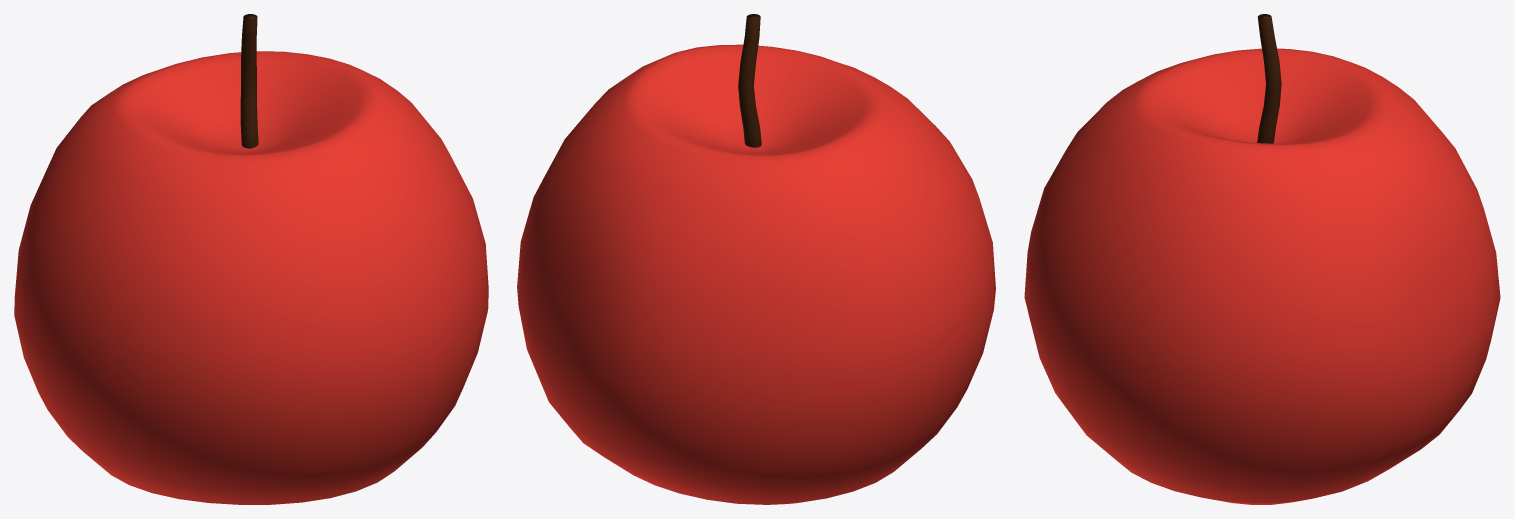
Rendered from apple.fbx.
3 views of the same model, side by side, from view 1: azimuth 30°, elevation 25°; view 2: azimuth 150°, elevation 25°; view 3: azimuth 270°, elevation 25° (orthographic).
Parts seen in each view (by area): view 1: Sphere, Cylinder; view 2: Sphere, Cylinder; view 3: Sphere, Cylinder.
Boxes of the visible parts, box(x1,y1,x2,y2) form: Sphere: box(14, 51, 488, 504); Cylinder: box(240, 14, 258, 148); Sphere: box(517, 44, 995, 504); Cylinder: box(738, 14, 761, 147); Sphere: box(1024, 48, 1500, 504); Cylinder: box(1257, 14, 1281, 143).
Bounding box in the file's own units: 43.57 × 44.27 × 43.63.
